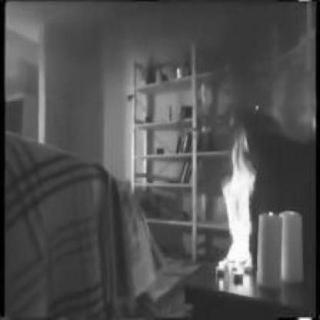Smoke: (219, 11, 287, 117), (67, 7, 201, 53)
